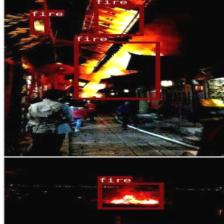fire: (74, 41, 159, 100), (97, 182, 162, 208), (93, 4, 143, 36), (29, 16, 48, 34)
